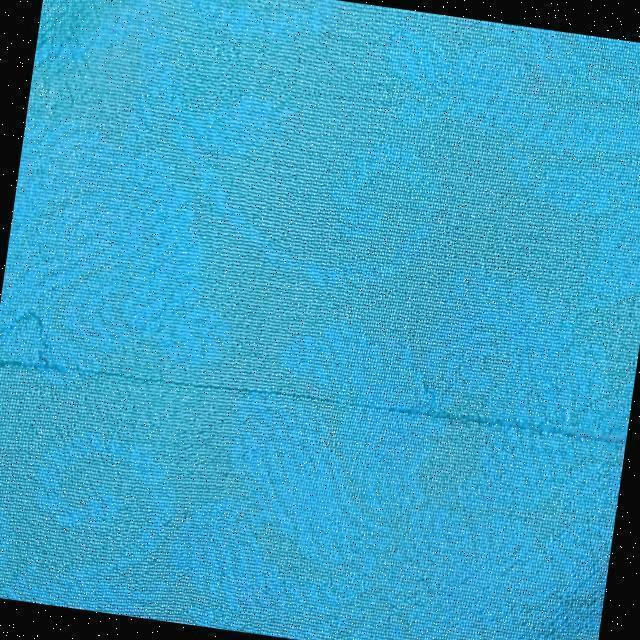pulled_or_thick_thread: (0, 351, 627, 448)
